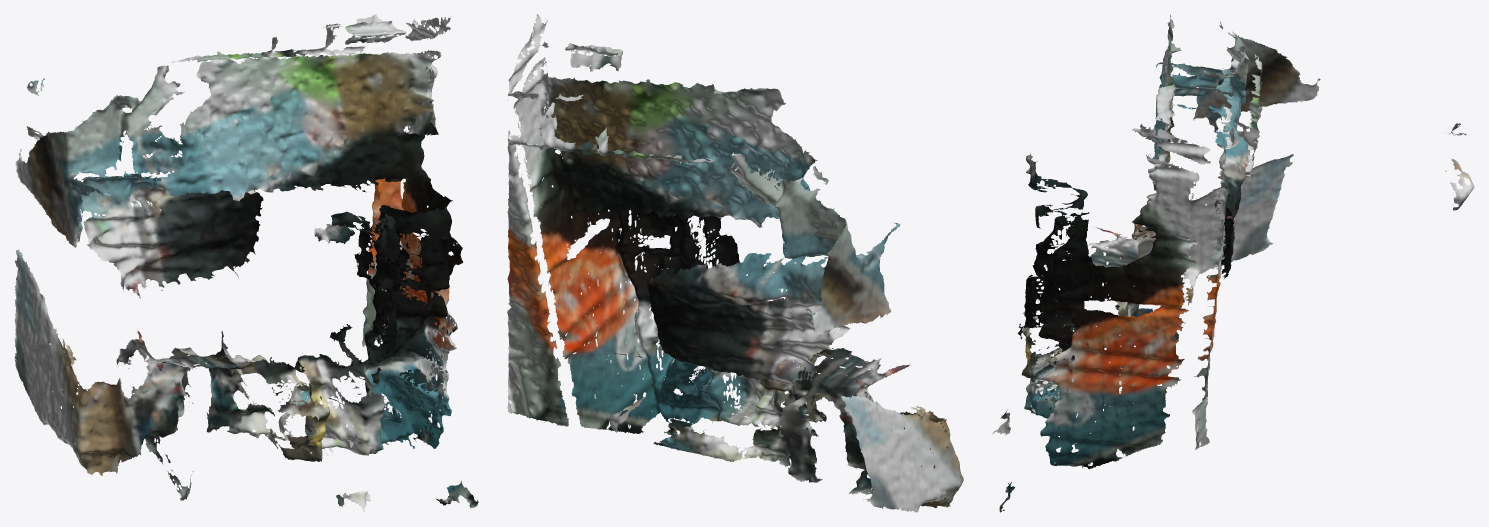
Rendered from color_model_f009_20251226_165934.obj.
3 renders of one model, left to right at view 1: azimuth 30°, elevation 25°; view 2: azimuth 150°, elevation 25°; view 3: azimuth 270°, elevation 25°, orthographic. The views are drawn at different scales.
Bounding box in the file's own units: 2.33 × 2.49 × 2.64.
